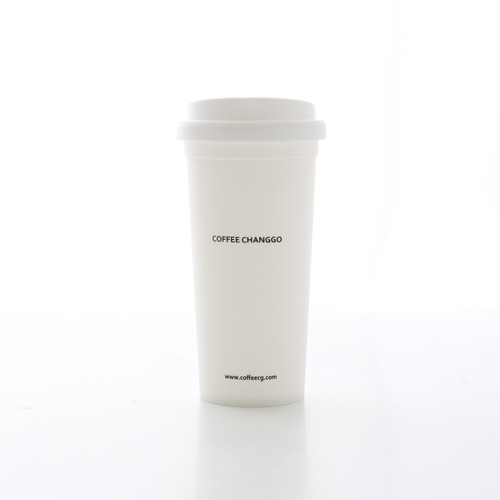Tumbler: (176, 85, 329, 413)
